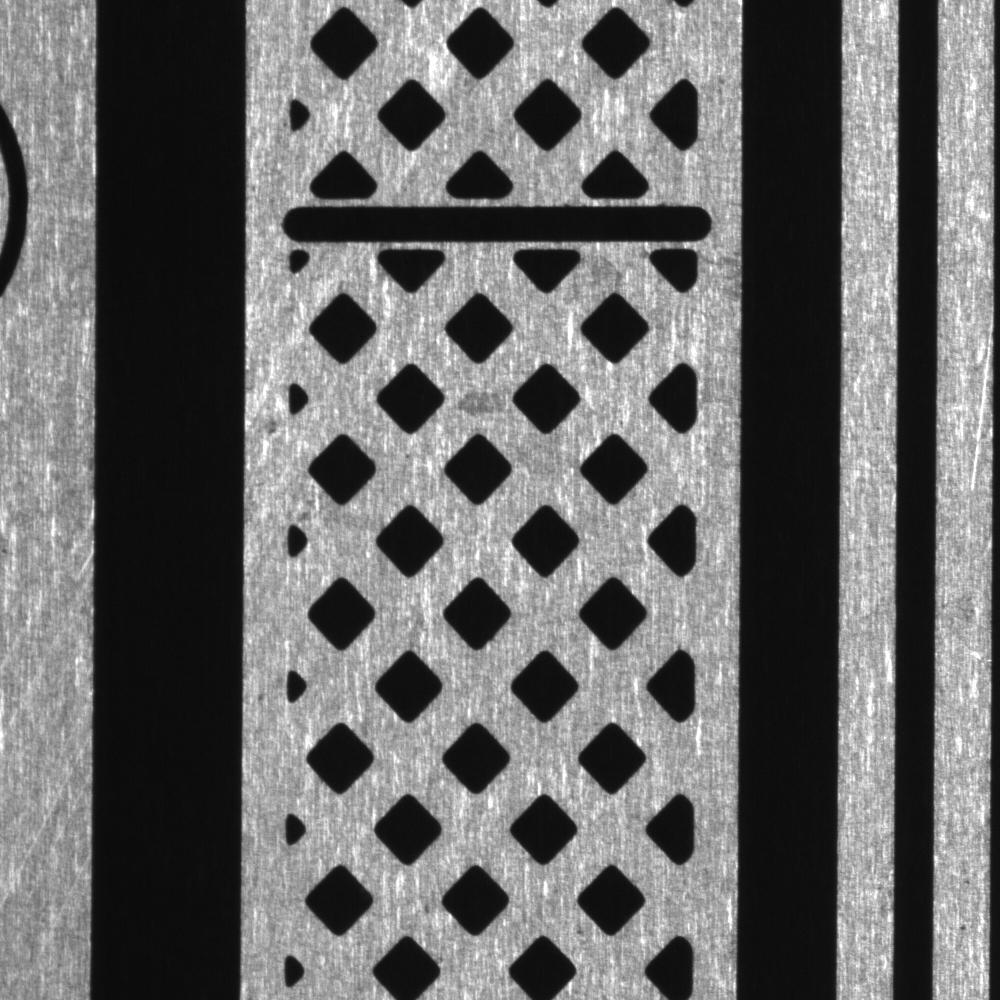Discolor: (448, 387, 523, 432), (585, 251, 624, 293)
Etching: (958, 876, 984, 897), (954, 921, 979, 937), (869, 880, 889, 897), (933, 131, 945, 151)
Pinhole: (873, 423, 883, 434)
Scar: (968, 326, 994, 498)
